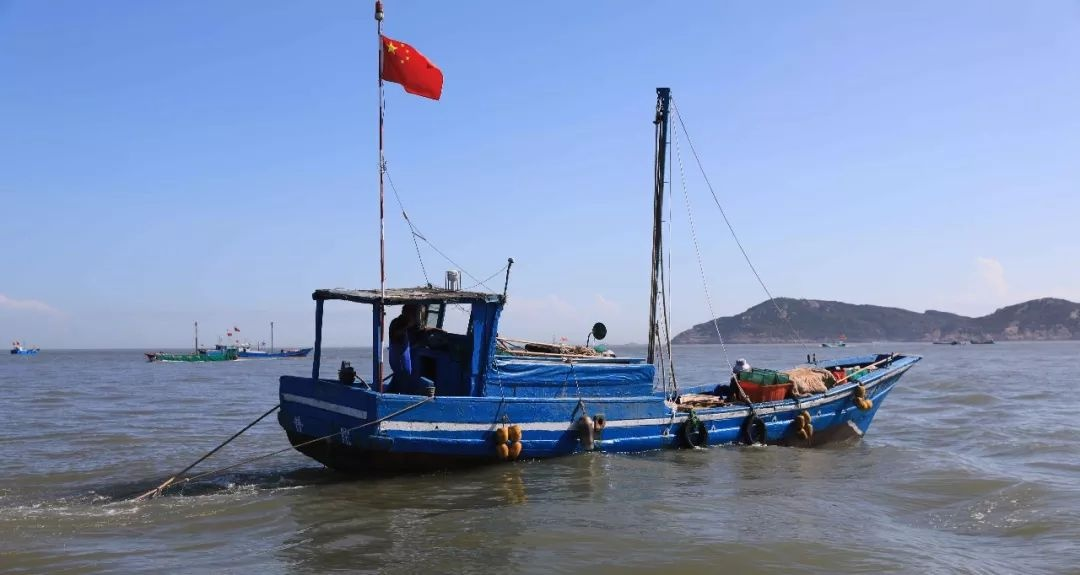otherboat: (262, 199, 921, 469), (136, 337, 239, 369), (219, 327, 314, 359), (9, 339, 44, 359)
